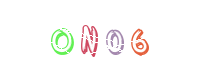0: (22, 0, 102, 80)
6: (74, 0, 154, 80)
N: (60, 0, 140, 80)
O: (70, 0, 150, 80)
